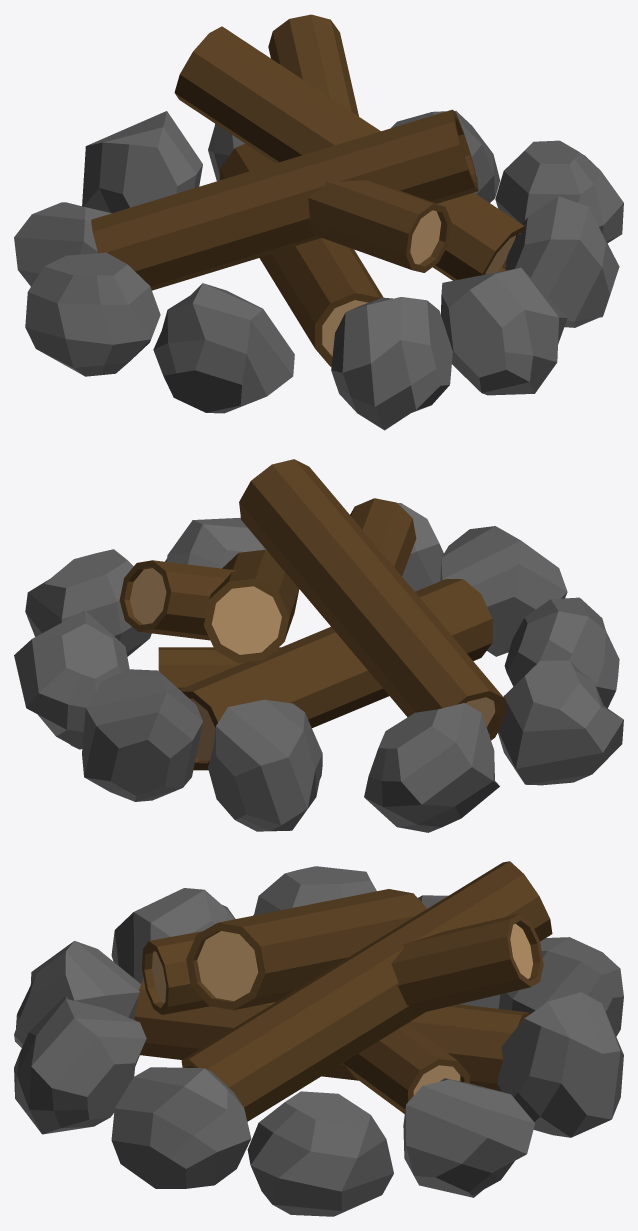
File: Campfire.fbx
3 renders of one model, top to bottom at view 1: azimuth 30°, elevation 25°; view 2: azimuth 150°, elevation 25°; view 3: azimuth 270°, elevation 25°, orthographic. The views are drawn at different scales.
Parts seen in each view (by area): view 1: Sphere, Cylinder, Cylinder.004; view 2: Sphere, Cylinder, Cylinder.004; view 3: Sphere, Cylinder, Cylinder.004.
Boxes of the visible parts, x1,y1,x2,y2 form: Sphere: (14,111,623,430); Cylinder: (91,14,524,366); Cylinder.004: (322,210,516,356); Sphere: (14,503,623,832); Cylinder: (119,459,506,770); Cylinder.004: (130,568,495,760); Sphere: (14,866,623,1216); Cylinder: (134,861,552,1121); Cylinder.004: (152,923,533,1095).
Size of the model in its own units: 378 by 143 by 336.
